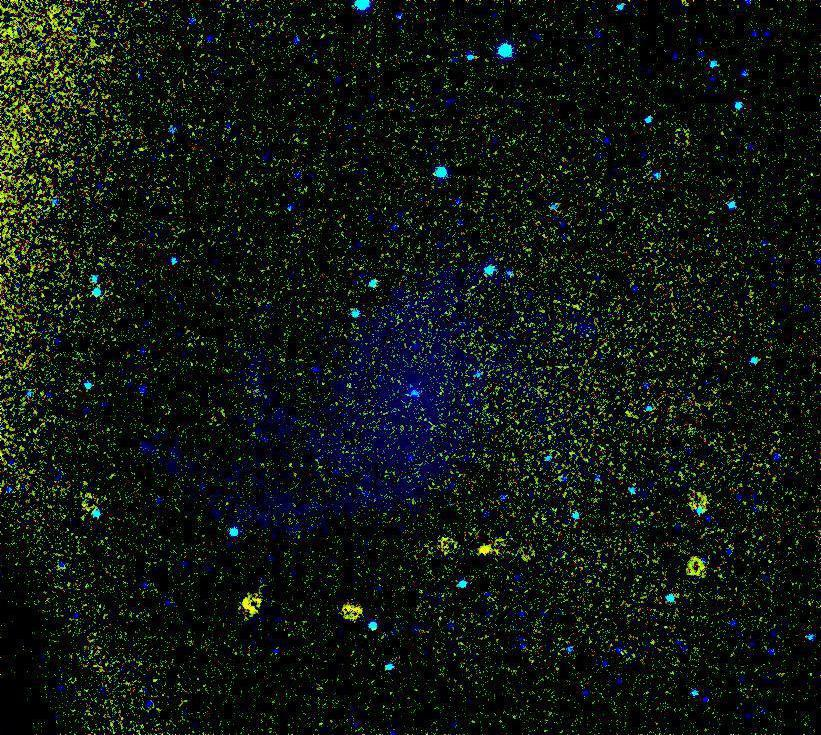star: (469, 535, 499, 565)
